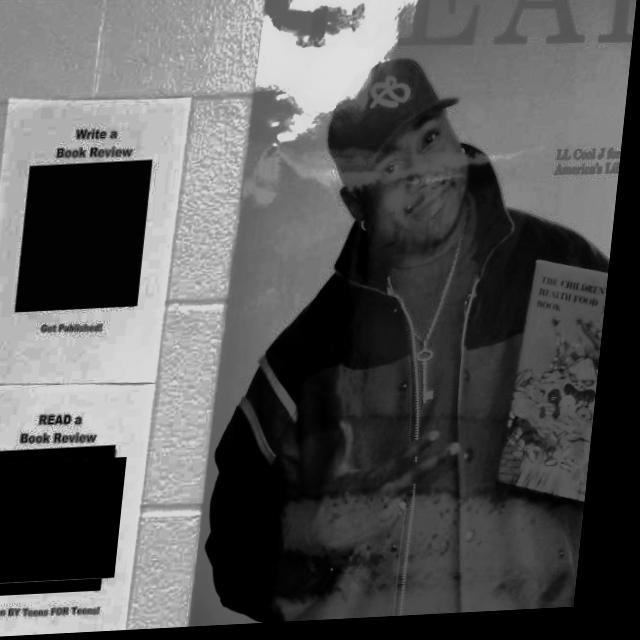qr_code: (21, 162, 156, 313), (0, 453, 131, 592)
